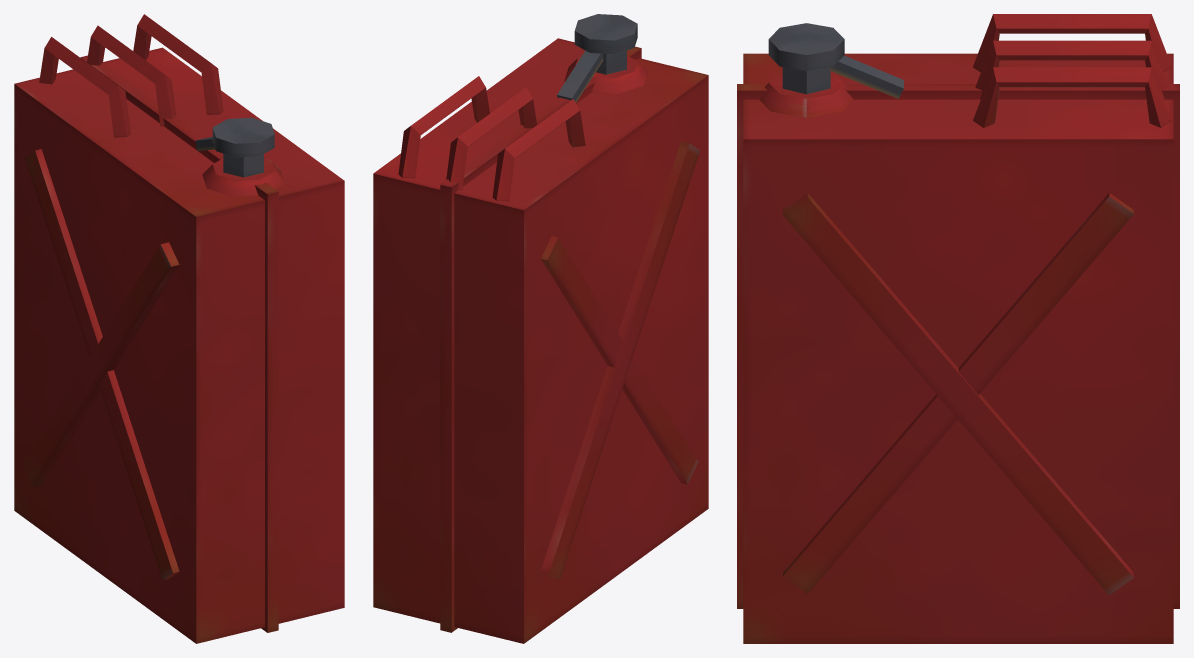
File: jerry_can.obj
3 renders of one model, left to right at view 1: azimuth 30°, elevation 25°; view 2: azimuth 150°, elevation 25°; view 3: azimuth 270°, elevation 25°, orthographic. The views are drawn at different scales.
Parts seen in each view (by area): view 1: jerry_can; view 2: jerry_can; view 3: jerry_can.
Part boxes in pixels (box(x1,y1,x2,y2)): jerry_can: box(14, 14, 344, 643); jerry_can: box(373, 14, 708, 643); jerry_can: box(737, 14, 1179, 643).
Bounding box in the file's own units: 0.178 × 0.494 × 0.35.
Materials: 1 (1 with a texture image).
